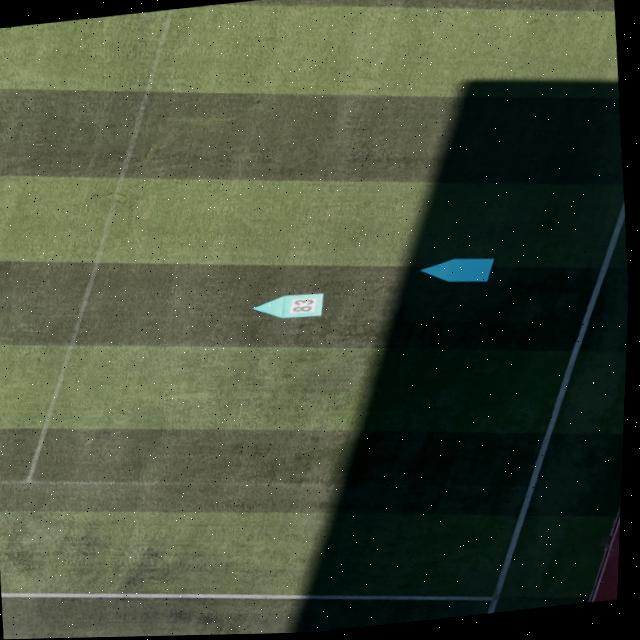board: (254, 292, 328, 318), (422, 259, 497, 283)
